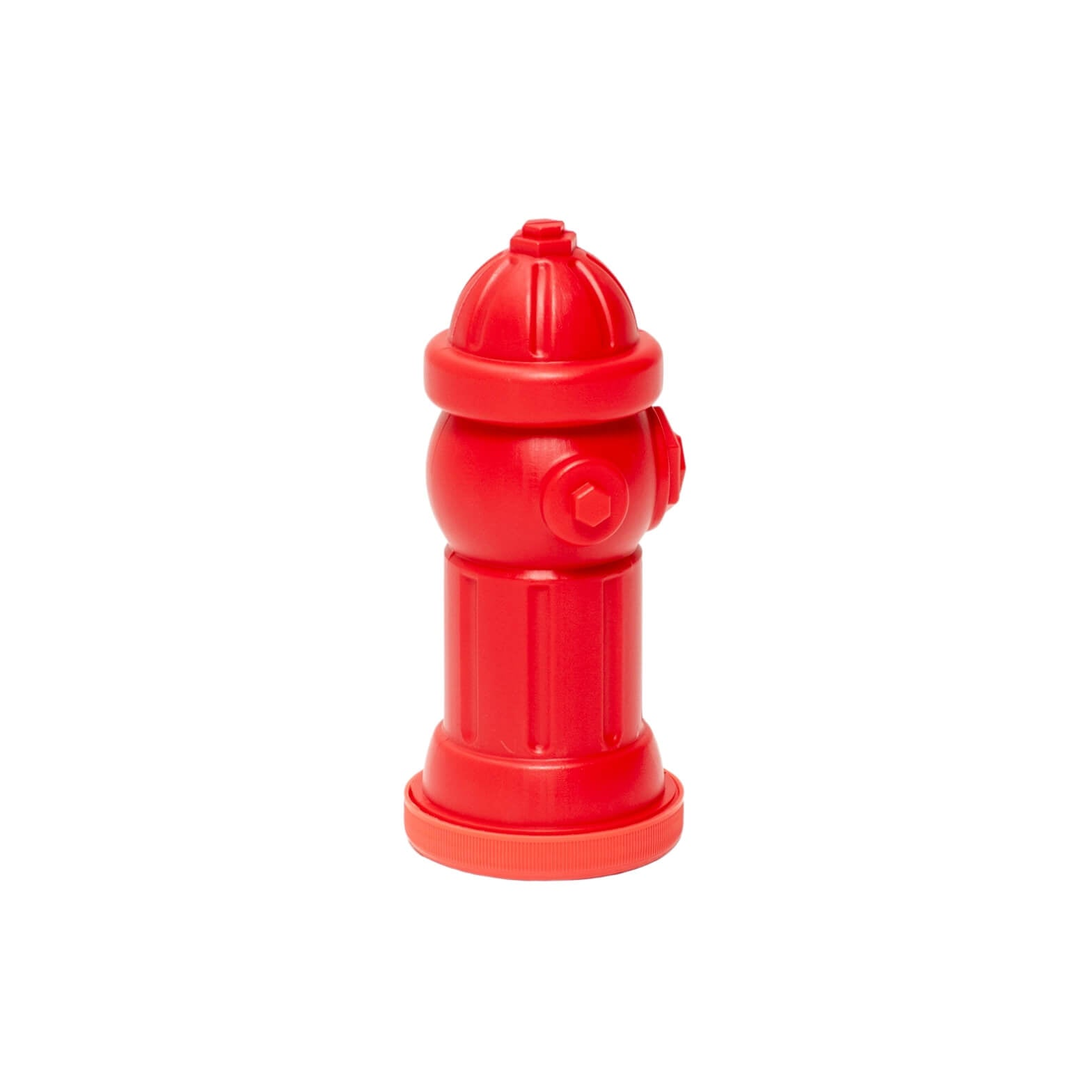FireHydrant: (366, 200, 743, 906)
